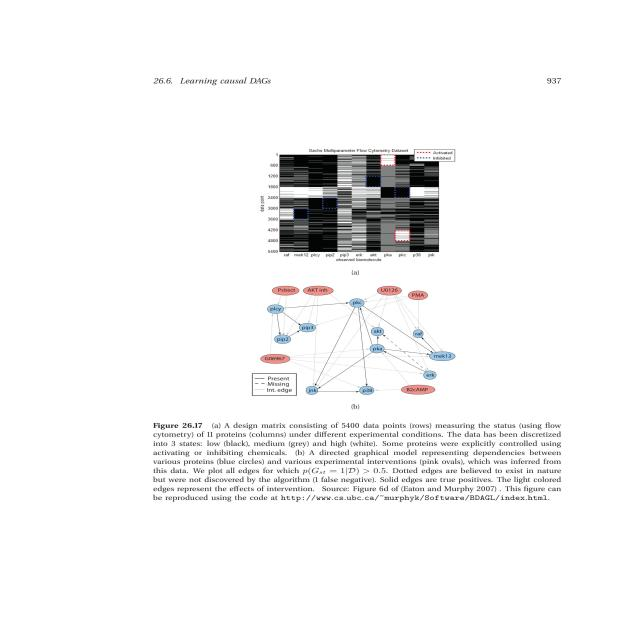diagram: (121, 129, 618, 527)
